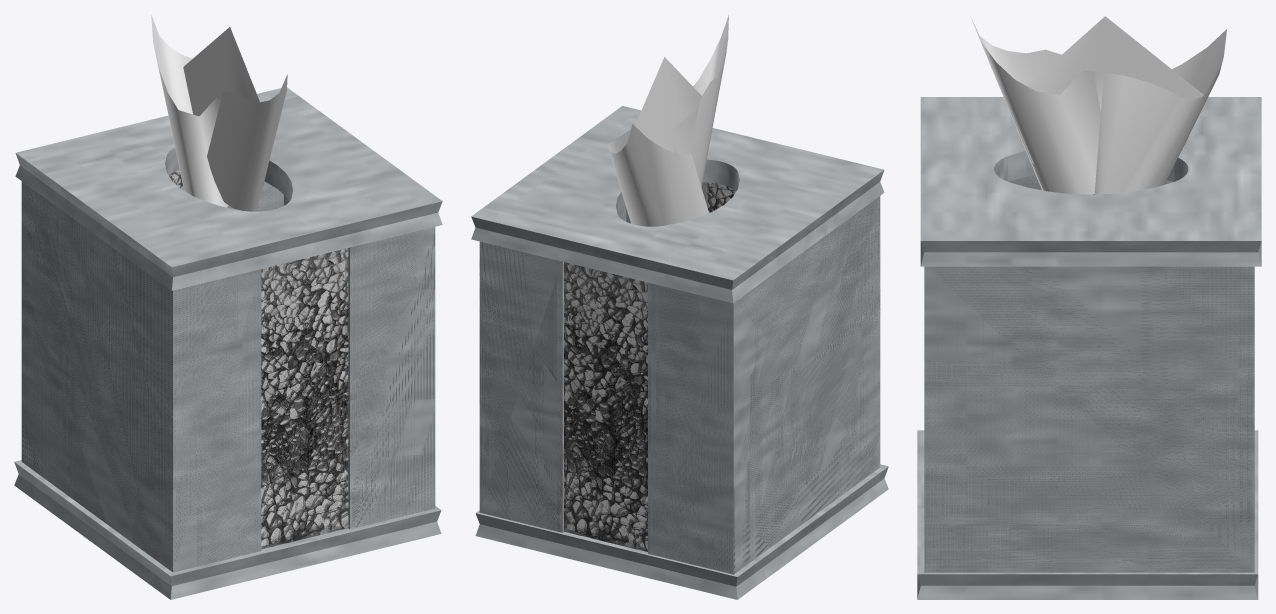
Rendered from tissue.fbx.
3 views of the same model, side by side, from view 1: azimuth 30°, elevation 25°; view 2: azimuth 150°, elevation 25°; view 3: azimuth 270°, elevation 25° (orthographic). The views are drawn at different scales.
Visible parts, largest first — view 1: group_1, ID106, ID64, group_0, ID33, ID41; view 2: group_1, ID106, ID51, group_0, ID33, ID41, ID64; view 3: group_1, ID106, group_0, ID33, ID41.
Part boxes in pixels (x1=…): group_1: x1=21, y1=181, x2=435, y2=572; ID106: x1=15, y1=87, x2=442, y2=290; ID64: x1=261, y1=248, x2=348, y2=549; group_0: x1=151, y1=15, x2=287, y2=211; ID33: x1=14, y1=460, x2=441, y2=599; ID41: x1=165, y1=148, x2=292, y2=201; group_1: x1=479, y1=182, x2=880, y2=574; ID106: x1=471, y1=106, x2=884, y2=303; ID51: x1=564, y1=262, x2=647, y2=551; group_0: x1=607, y1=15, x2=728, y2=226; ID33: x1=475, y1=464, x2=888, y2=599; ID41: x1=616, y1=159, x2=739, y2=216; ID64: x1=707, y1=182, x2=735, y2=212; group_1: x1=924, y1=174, x2=1254, y2=572; ID106: x1=920, y1=97, x2=1261, y2=266; group_0: x1=970, y1=15, x2=1226, y2=194; ID33: x1=917, y1=430, x2=1258, y2=599; ID41: x1=994, y1=151, x2=1188, y2=181.
Size of the model in its own units: 15.4 by 25.52 by 15.4.
